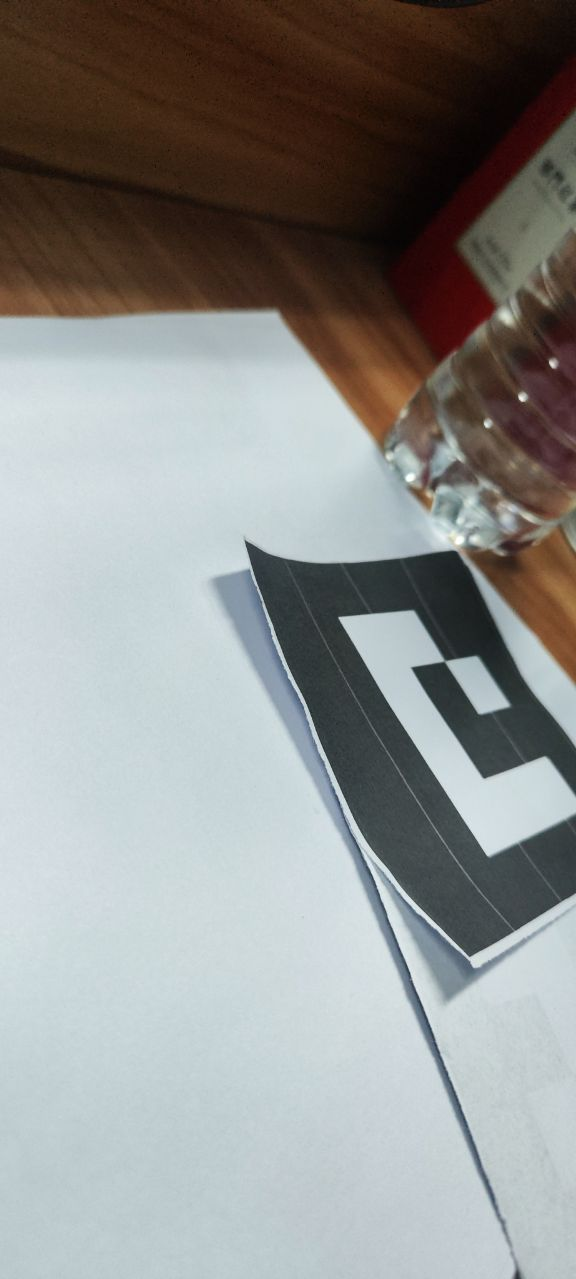mark1: (328, 595, 576, 861)
